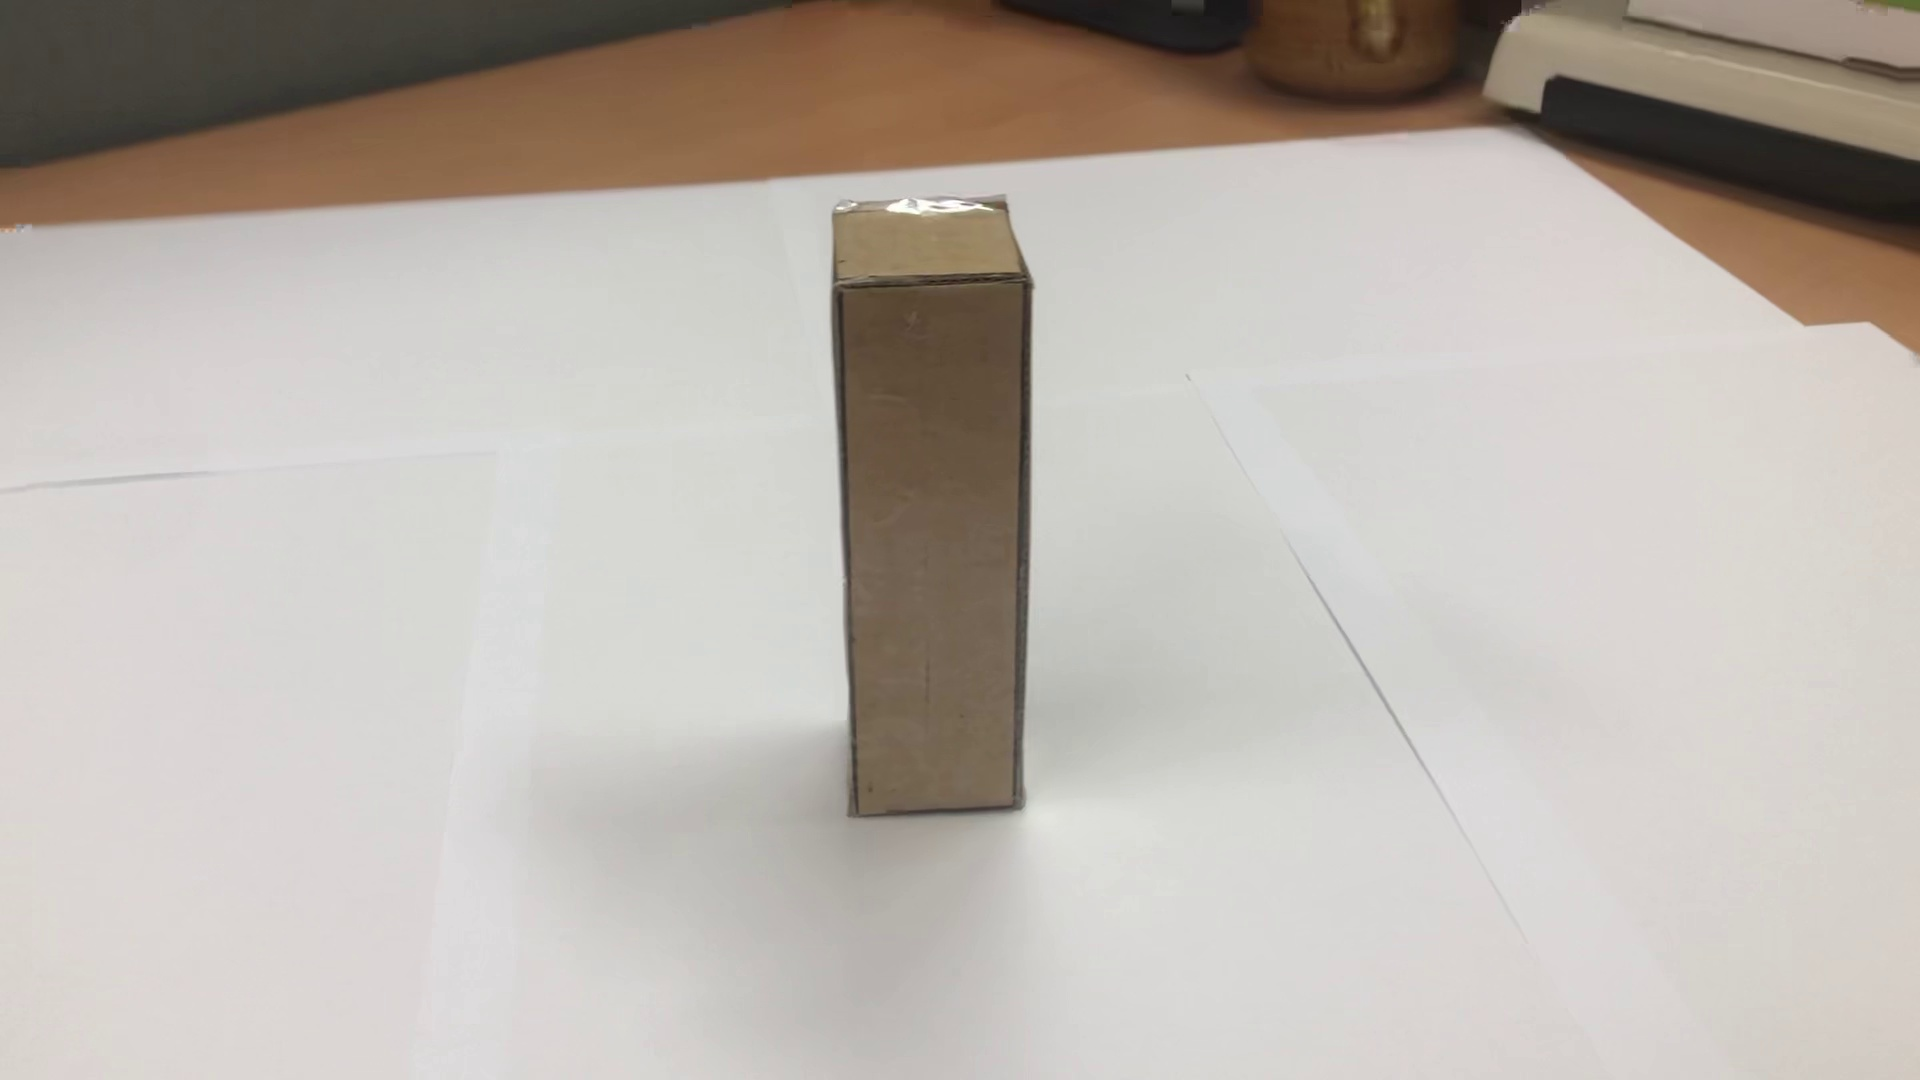box: (800, 189, 1068, 835)
